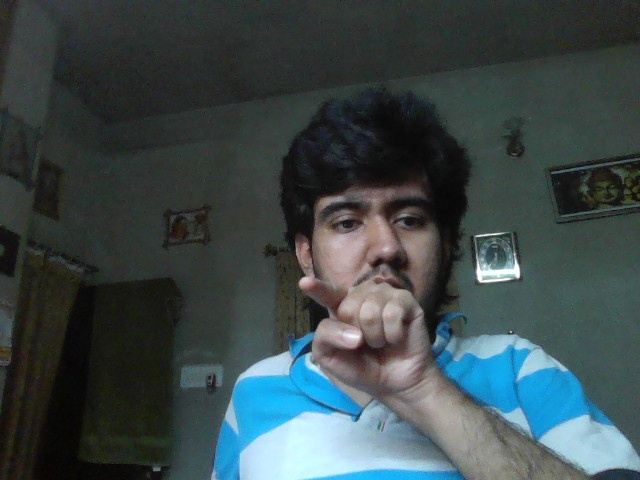You: (298, 277, 431, 391)
